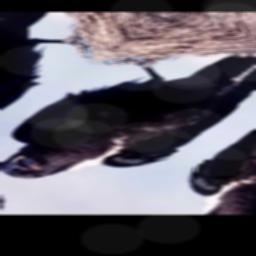Crow: (0, 20, 256, 206)
